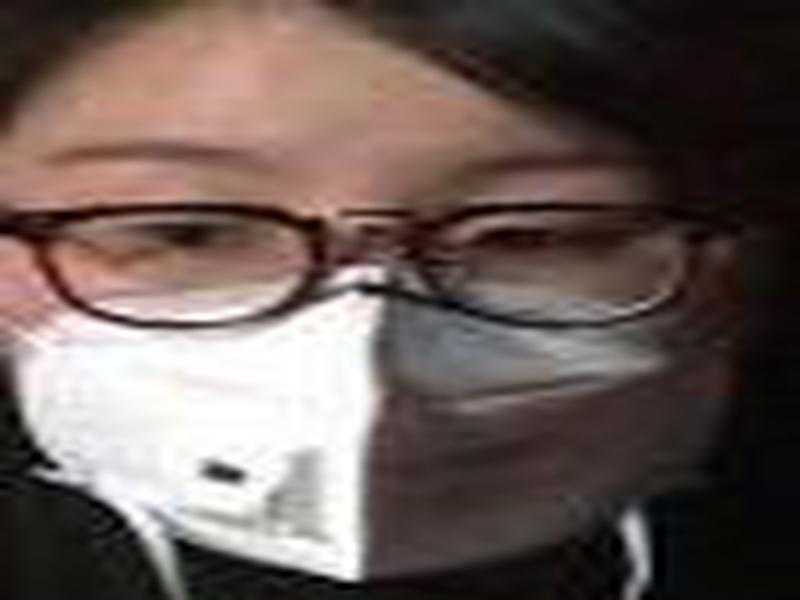with_mask: (1, 5, 749, 600)
